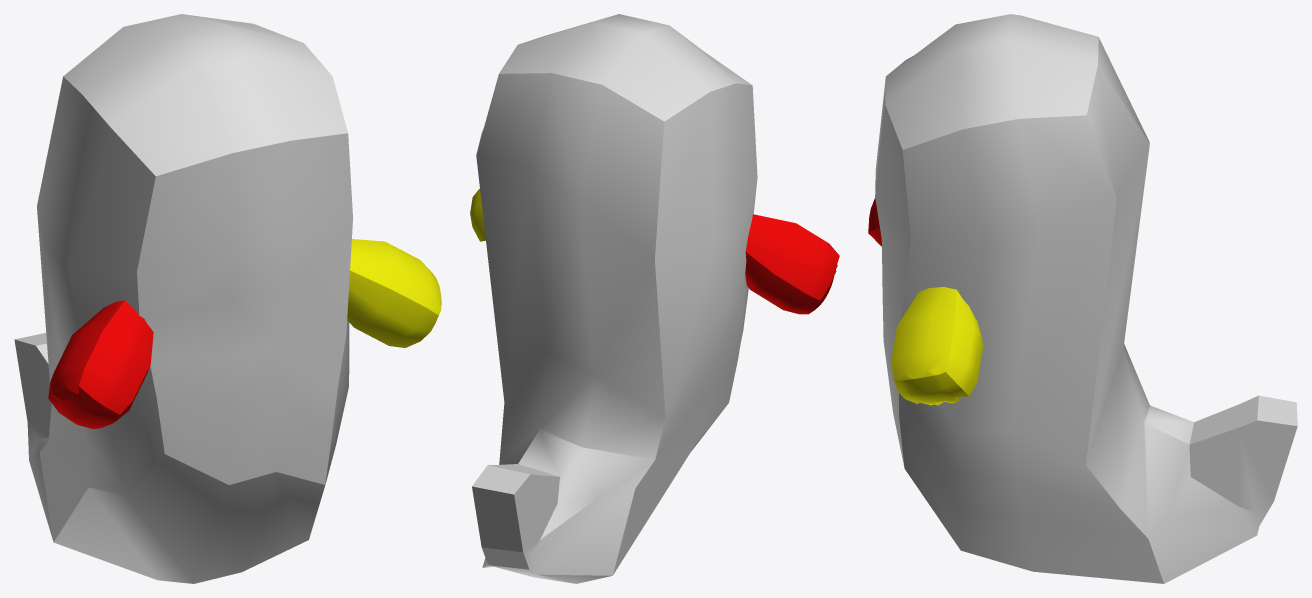
File: Ghost.fbx
3 views of the same model, side by side, from view 1: azimuth 30°, elevation 25°; view 2: azimuth 150°, elevation 25°; view 3: azimuth 270°, elevation 25° (orthographic). The views are drawn at different scales.
Visible parts, largest first — view 1: ghost_body, ghost_leftarm, ghost_rightarm; view 2: ghost_body, ghost_leftarm, ghost_rightarm; view 3: ghost_body, ghost_rightarm.
Boxes of the visible parts, box(x1,y1,x2,y2) form: ghost_body: box(14, 14, 352, 583); ghost_leftarm: box(48, 300, 153, 428); ghost_rightarm: box(347, 239, 441, 347); ghost_body: box(472, 14, 757, 583); ghost_leftarm: box(745, 214, 839, 314); ghost_rightarm: box(470, 188, 485, 241); ghost_body: box(875, 14, 1297, 583); ghost_rightarm: box(891, 287, 983, 405).
Bounding box in the file's own units: 89.56 × 124 × 89.54.
